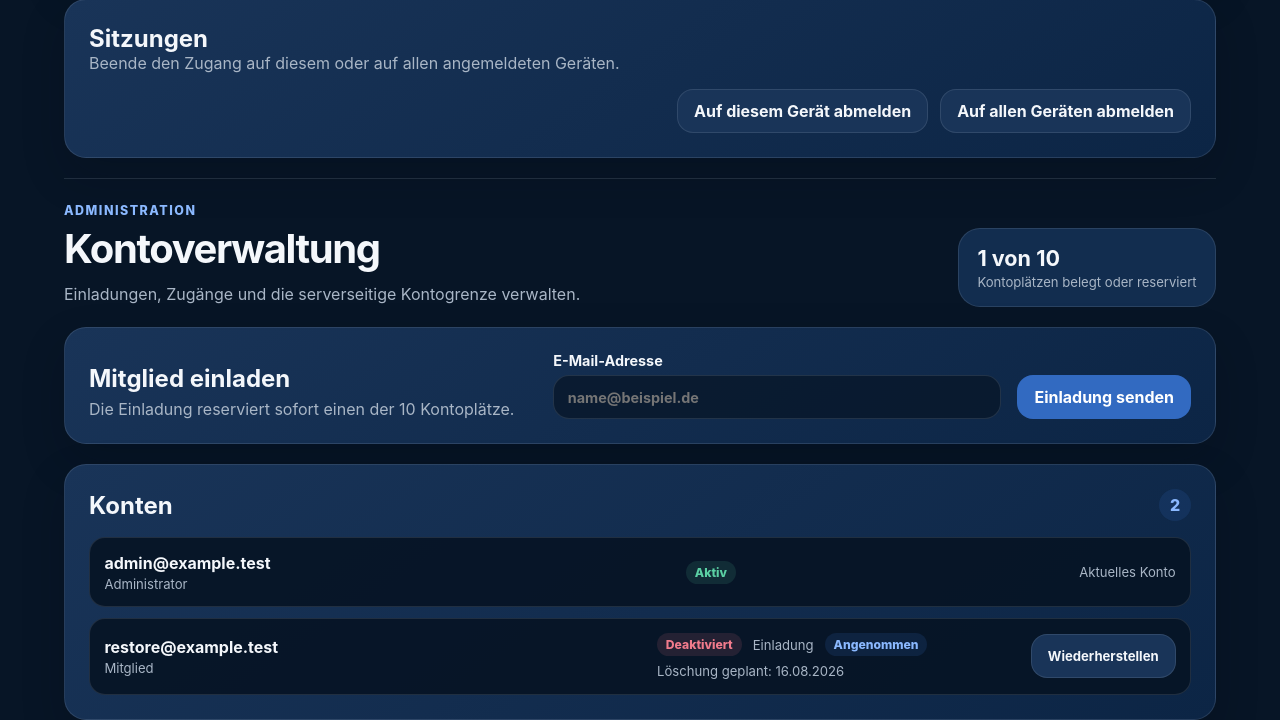
SettingsPage › restores an accepted account and shows success feedback
(page scrolled)
What coordinates should you click on to do the following:
click the button "Wiederherstellen"
I would click on:
 (1103, 656)
Its box is [1031,634,1176,678].
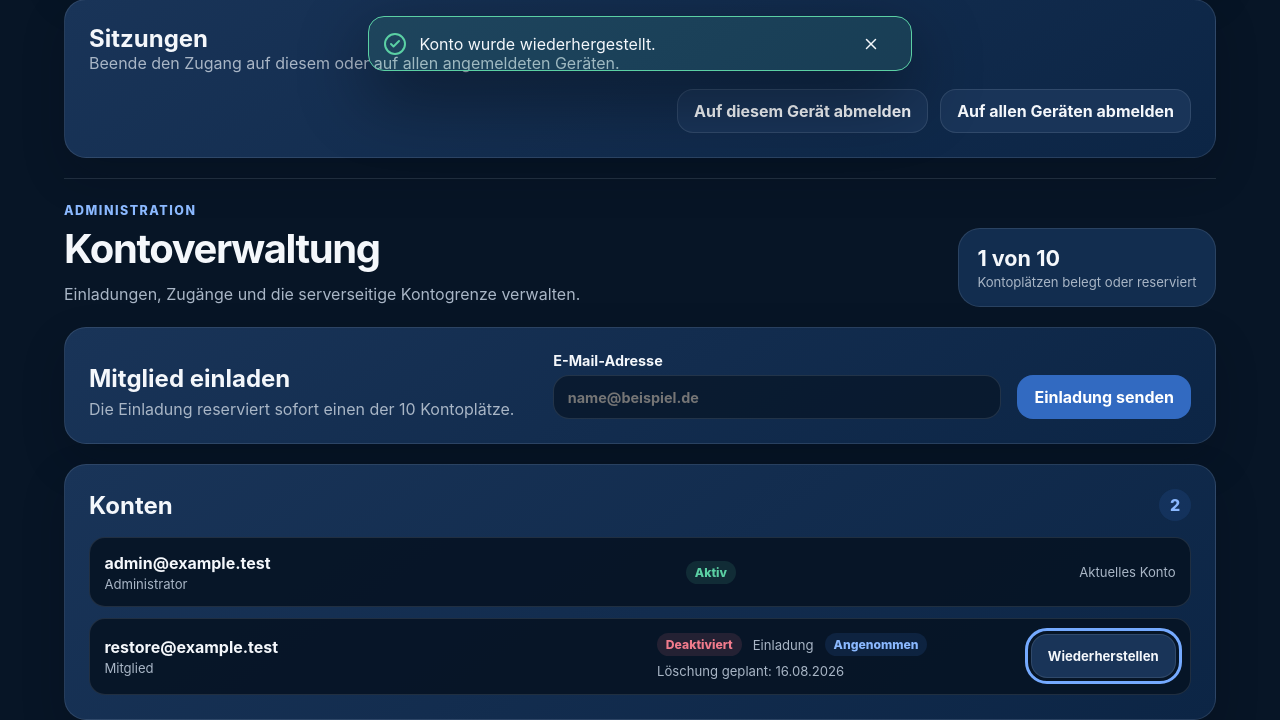
Result: the message named "Erfolg: Konto wurde wiederhergestellt." is shown at [368,16,912,71]
